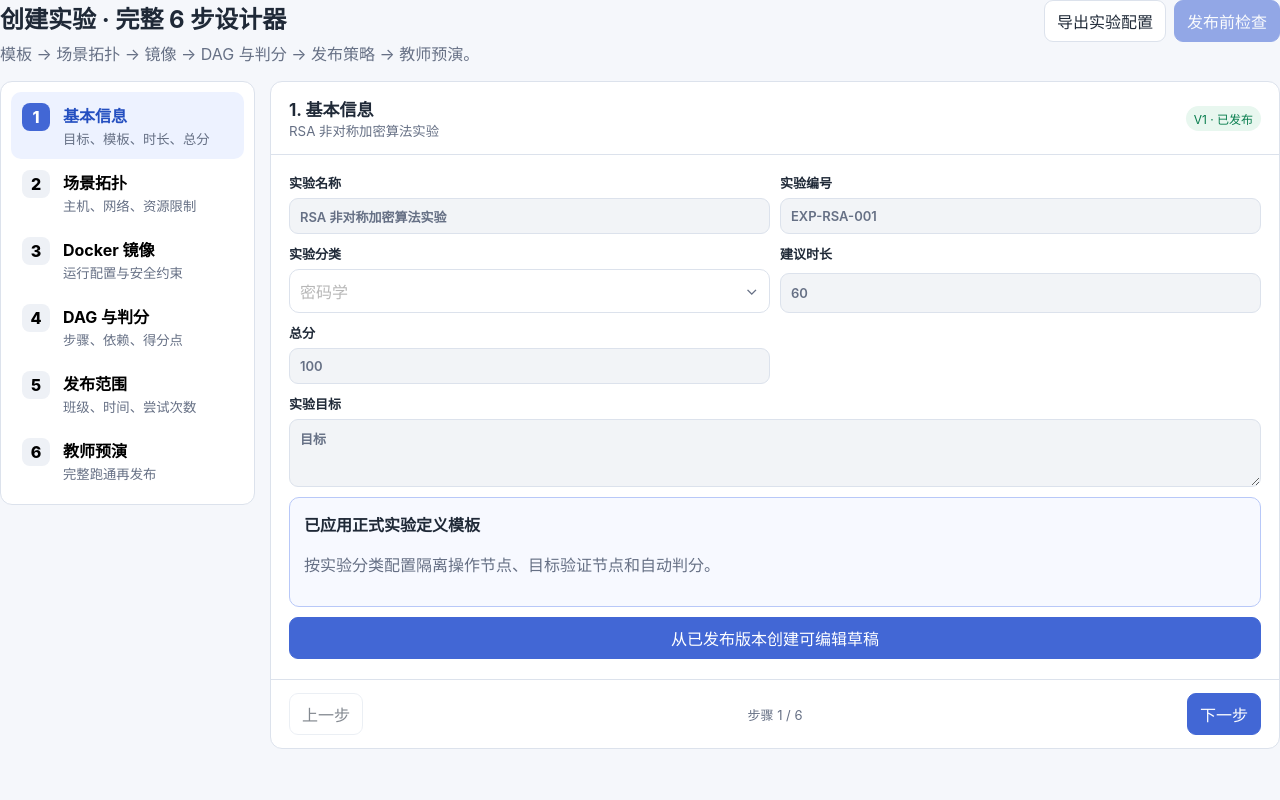
Test: 实验设计器 › 从接口数据展示 RSA 拓扑、DAG 和 100 分得分点
Click the button "2 场景拓扑 主机、网络、资源限制" at (128, 192), box [11,159,244,226]
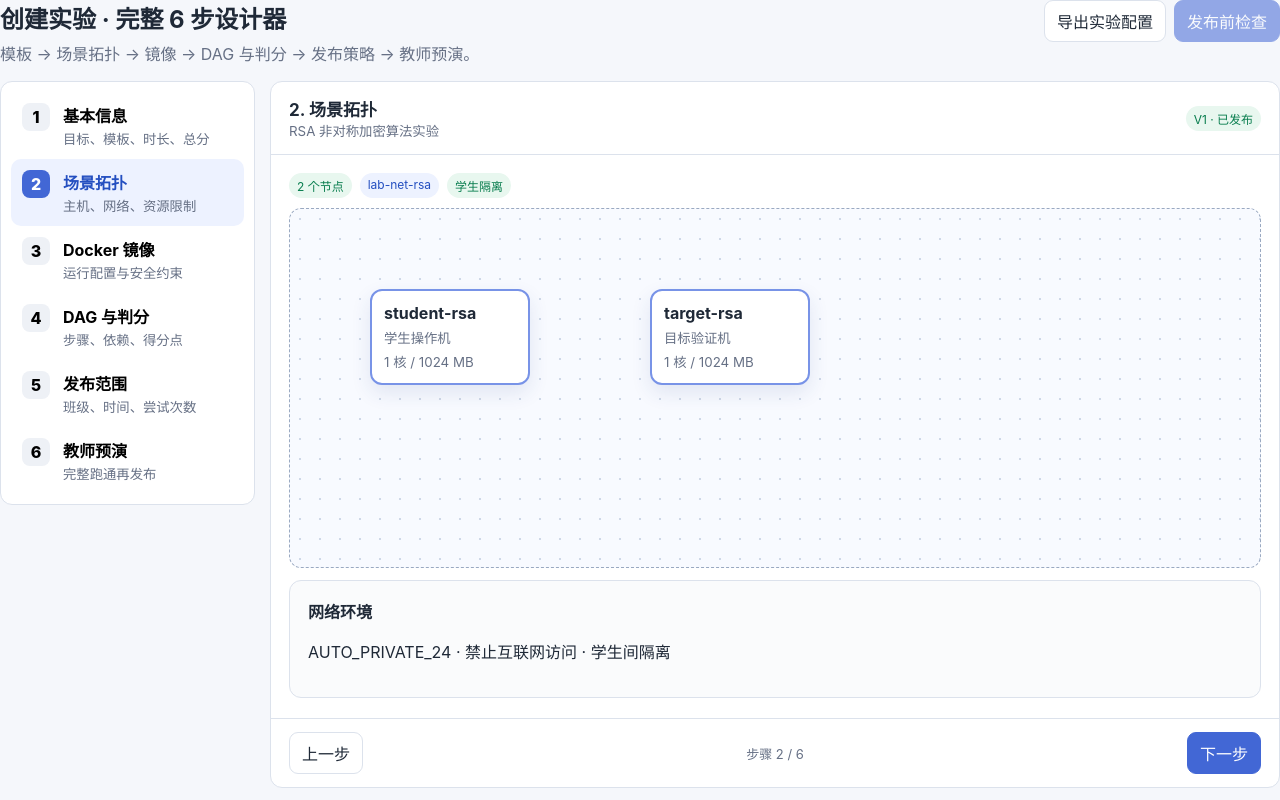
Expected: the text "student-rsa" is shown, [384,303,476,323]
Expected: the text "target-rsa" is shown, [664,303,743,323]
Click the button "4 DAG 与判分 步骤、依赖、得分点" at (128, 326), box [11,293,244,360]
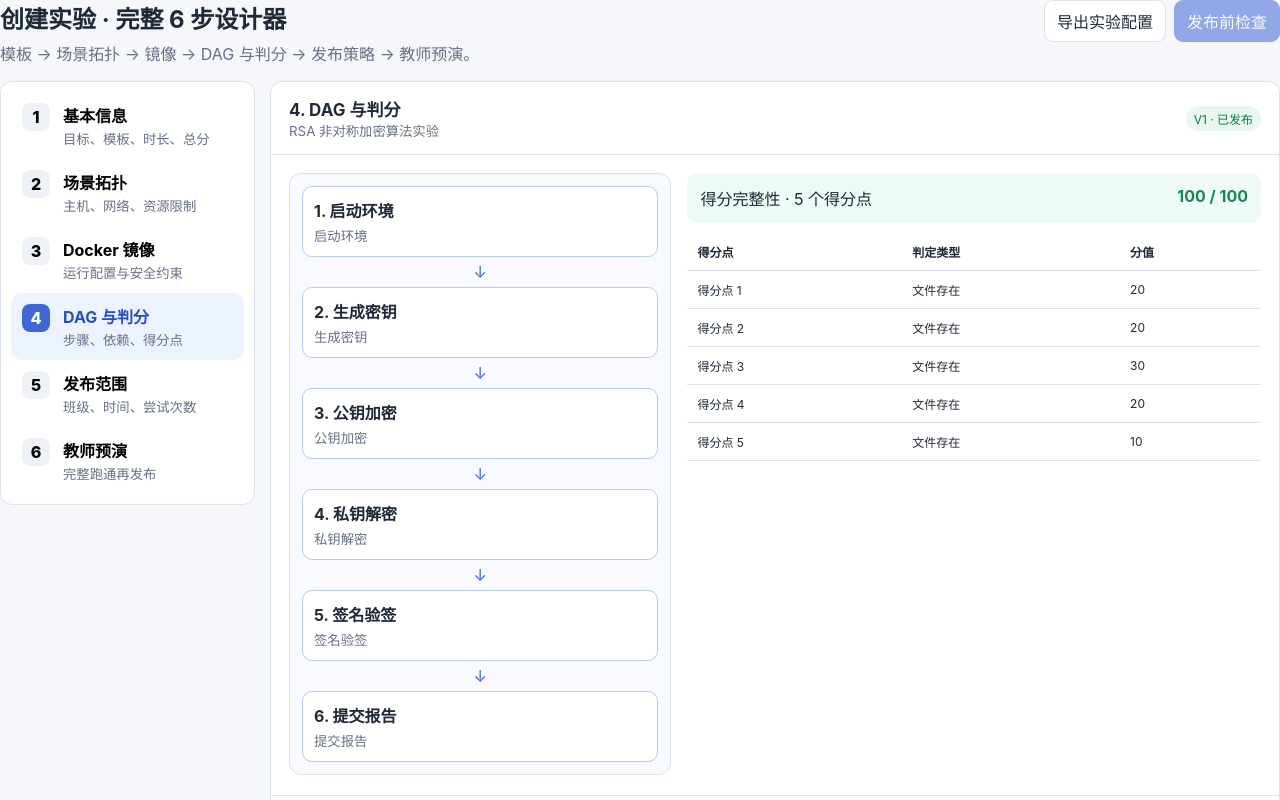
Expected: the text "5 个得分点" is shown, [700,189,872,209]
Expected: the text "100 / 100" is shown, [1177,186,1248,210]
